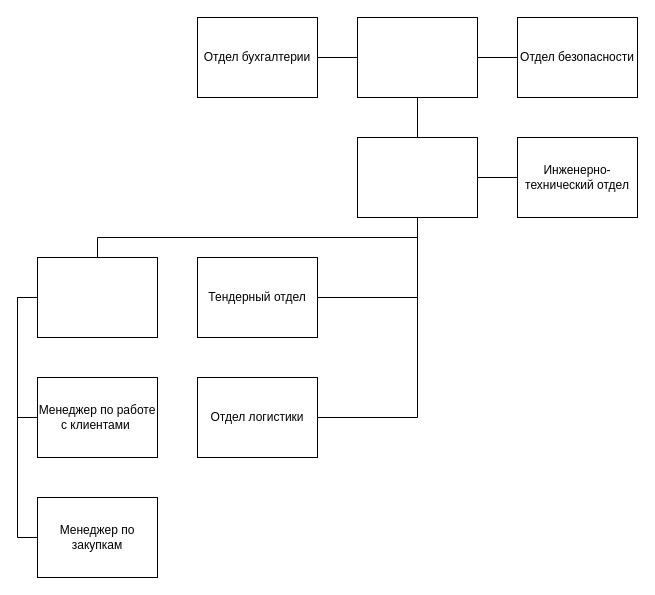
This 655x595 diagram has some shape labels left out. Each missing label, with the centre of its shape:
"Главный Директор" goes at point 417,57.
"Заместитель директора" goes at point 417,177.
"Отдел менеджеров" goes at point 97,297.
